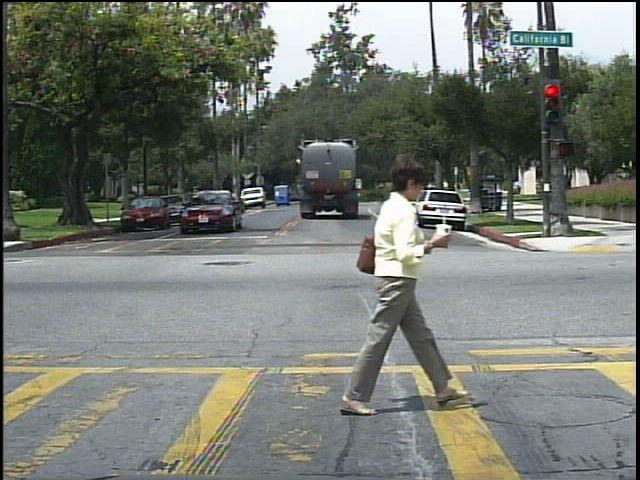person: (339, 149, 459, 421), (515, 180, 528, 199)
